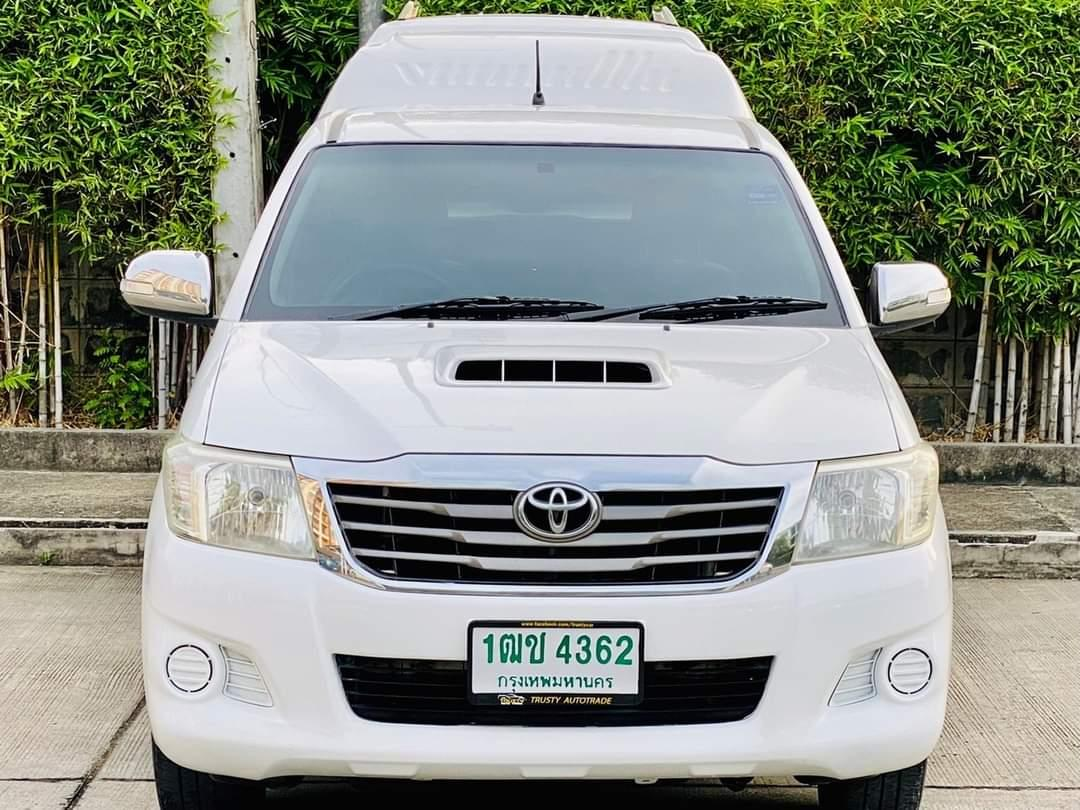license-plate: (463, 613, 648, 709)
